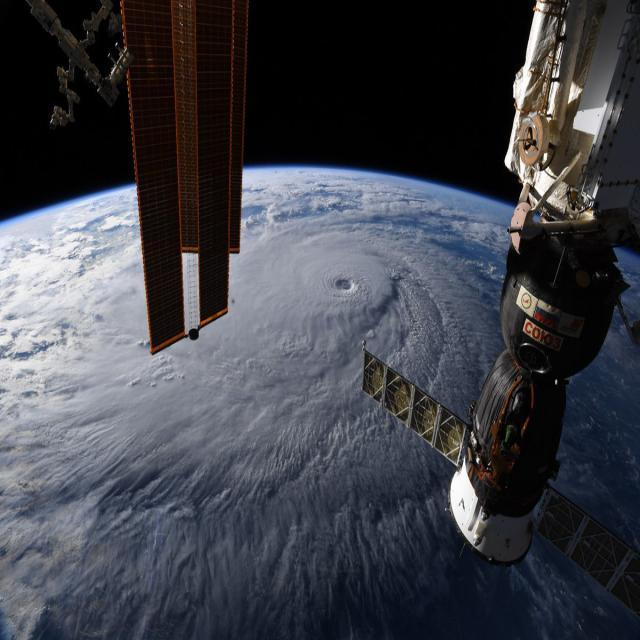sat: (350, 0, 640, 592), (18, 0, 265, 378)
